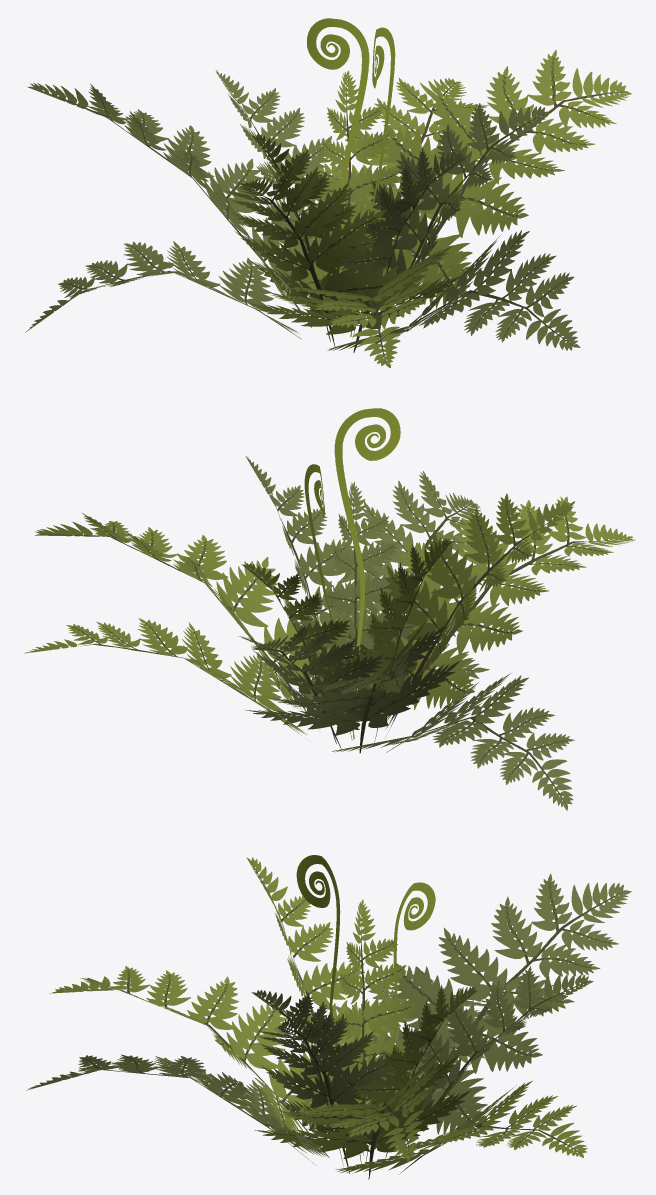
File: Fern_1b.fbx
3 renders of one model, top to bottom at view 1: azimuth 30°, elevation 25°; view 2: azimuth 150°, elevation 25°; view 3: azimuth 270°, elevation 25°, orthographic. The views are drawn at different scales.
Visible parts, largest first — view 1: Fern_1b; view 2: Fern_1b; view 3: Fern_1b.
Part boxes in pixels (x1,y1,x2,y2): Fern_1b: (25,18,631,367); Fern_1b: (24,408,635,810); Fern_1b: (26,855,631,1179).
Size of the model in its own units: 218 by 115 by 206.
Materials: 1 (1 with a texture image).
